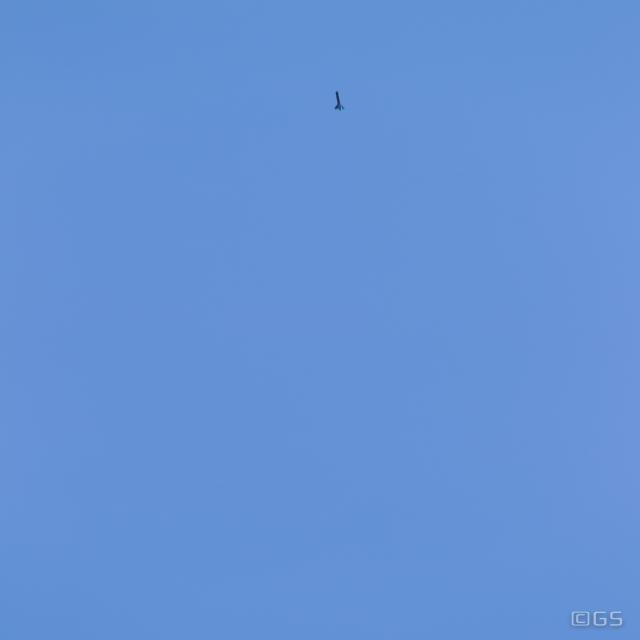Rocket: (333, 90, 346, 111)
